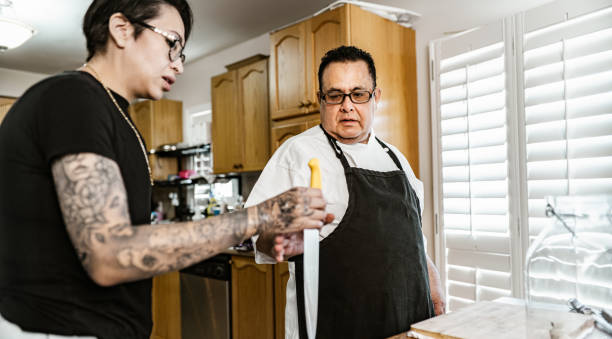knife: (303, 158, 321, 339)
